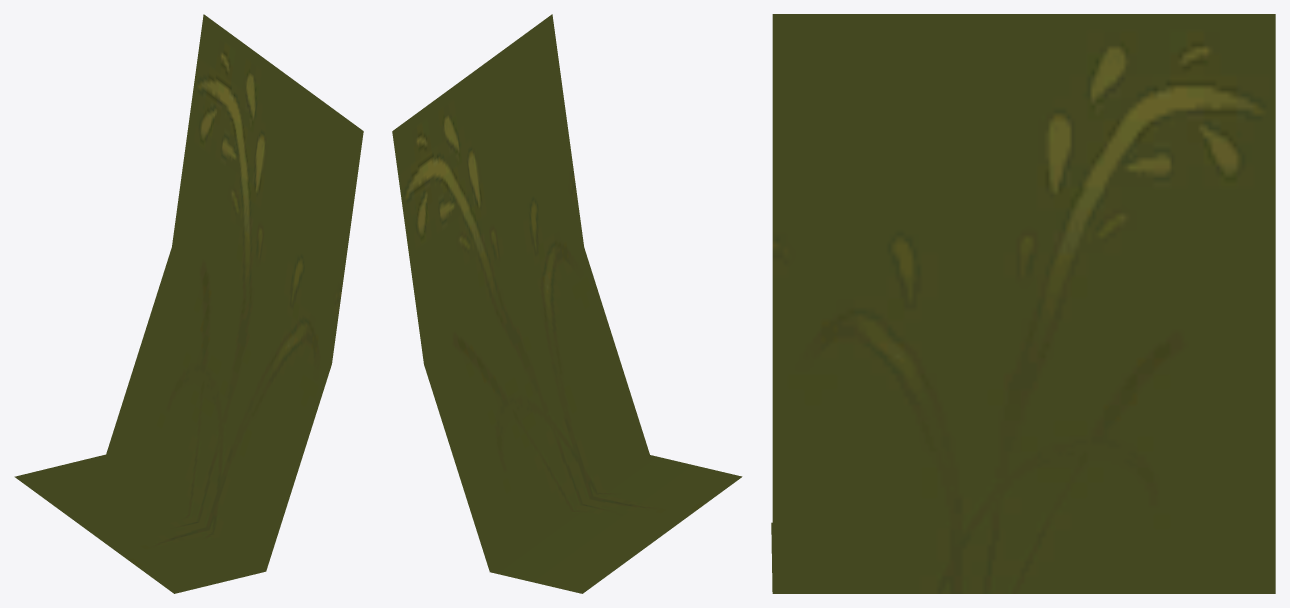
Rendered from grass_clump_00c.fbx.
The picture shows the model from 3 angles, left to right: view 1: azimuth 30°, elevation 25°; view 2: azimuth 150°, elevation 25°; view 3: azimuth 270°, elevation 25°; orthographic projection. The views are drawn at different scales.
Parts seen in each view (by area): view 1: grass_clump_00c; view 2: grass_clump_00c; view 3: grass_clump_00c.
Part boxes in pixels (<box>): grass_clump_00c: <box>14,14,363,593</box>; grass_clump_00c: <box>392,14,742,593</box>; grass_clump_00c: <box>771,14,1275,593</box>.
Bounding box in the file's own units: 64.74 × 136 × 94.84.
